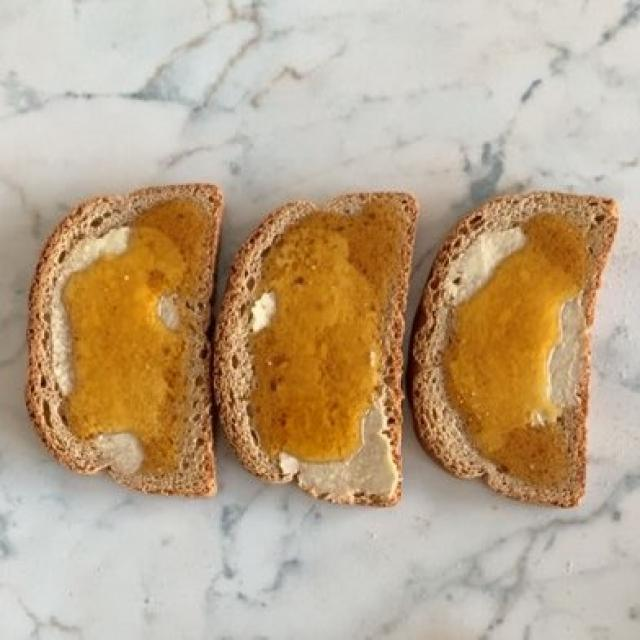butter: (42, 224, 585, 493)
honey: (70, 190, 585, 498)
rusk-wholemeal: (28, 185, 612, 511)
